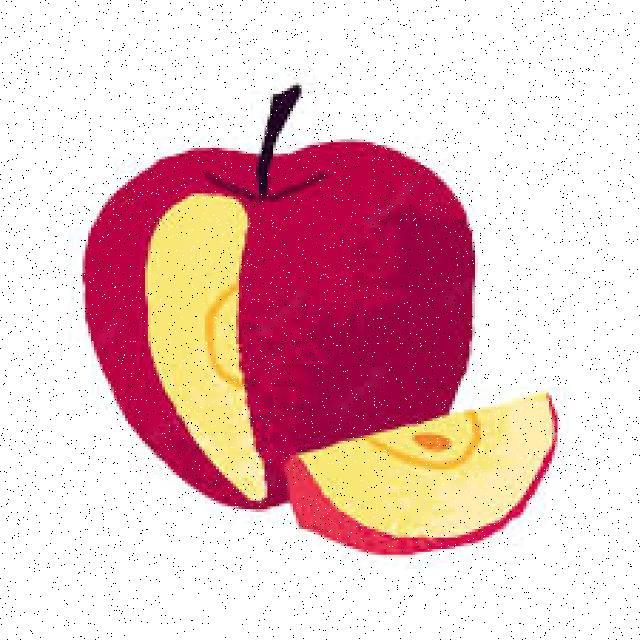Apple: (88, 138, 476, 505), (281, 383, 564, 553)
